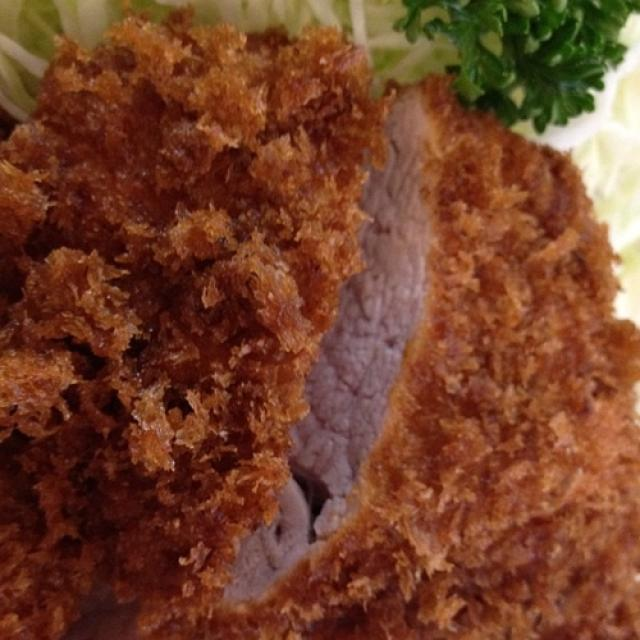牛肉菜式: (8, 18, 620, 623)
